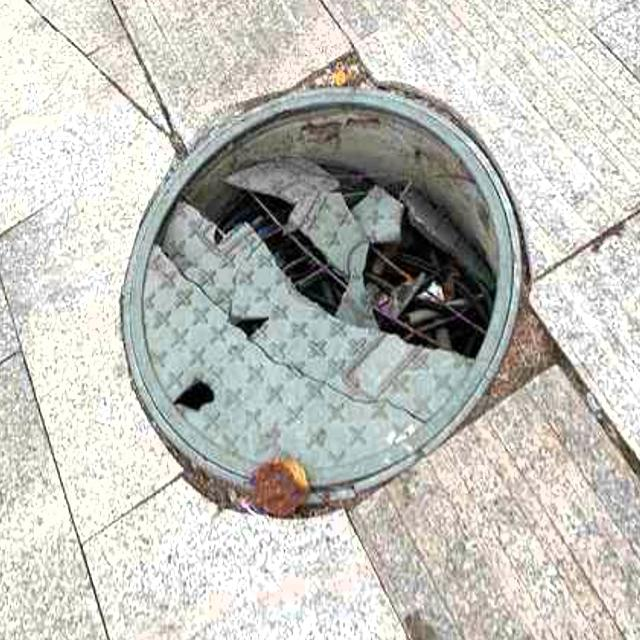broke: (105, 72, 534, 526)
